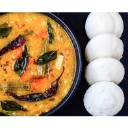idly: (83, 80, 126, 117), (86, 59, 125, 86), (87, 33, 123, 62), (86, 11, 123, 39)
